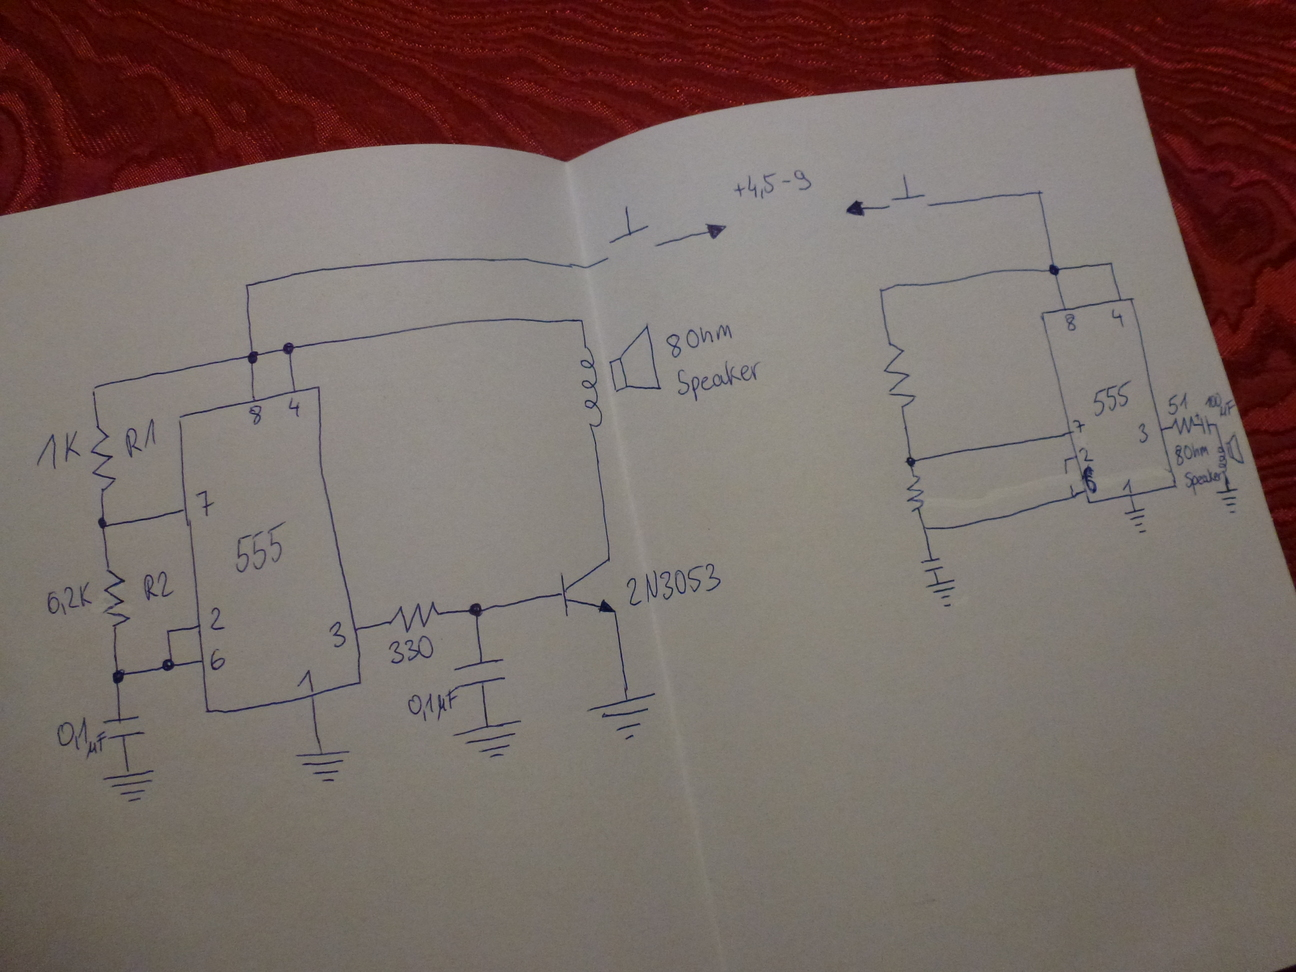capacitor.polarized: (1194, 412, 1214, 437)
capacitor.unpolarized: (451, 655, 510, 692), (102, 712, 146, 743), (918, 554, 946, 574)
gnd: (584, 689, 658, 743), (452, 716, 525, 761), (100, 765, 159, 806), (293, 745, 352, 784), (925, 578, 961, 610), (1214, 486, 1240, 517), (1121, 507, 1149, 534)
integrated_circuit: (175, 381, 364, 716), (1037, 296, 1179, 506)
junction: (464, 599, 487, 620), (109, 665, 129, 687), (93, 514, 114, 532), (280, 339, 298, 358), (158, 657, 175, 674), (245, 348, 261, 364), (87, 381, 103, 396), (875, 283, 891, 298), (1046, 262, 1061, 278), (903, 454, 919, 468), (574, 312, 588, 327), (241, 278, 253, 291), (1033, 187, 1045, 199), (163, 625, 175, 637), (919, 523, 932, 534), (1105, 258, 1116, 268), (1068, 491, 1077, 500), (1060, 456, 1070, 464)
resistor: (879, 335, 918, 415), (99, 566, 131, 632), (87, 426, 117, 490), (388, 599, 438, 631), (901, 469, 929, 517), (1170, 416, 1197, 436)
speaker: (576, 323, 665, 434), (1215, 433, 1245, 473)
switch: (597, 202, 665, 266), (881, 171, 936, 213)
text: (625, 563, 721, 606), (675, 358, 762, 404), (230, 521, 288, 574), (665, 320, 735, 360), (733, 166, 813, 201), (31, 430, 84, 470), (406, 686, 460, 723), (54, 717, 103, 757), (45, 581, 94, 615), (385, 633, 437, 664), (121, 420, 161, 458), (1088, 381, 1132, 416), (1183, 466, 1222, 497), (141, 570, 175, 601), (1173, 441, 1211, 467), (1203, 391, 1238, 419), (192, 485, 217, 519), (326, 620, 348, 649), (207, 604, 228, 634), (1165, 391, 1190, 416), (1082, 464, 1100, 494), (207, 647, 226, 672), (247, 401, 264, 426), (285, 395, 303, 418), (1135, 421, 1151, 445), (297, 667, 312, 691), (1077, 445, 1098, 463), (1110, 305, 1126, 327), (1062, 312, 1078, 331), (1071, 417, 1086, 435), (1121, 477, 1134, 493)
transistor: (551, 552, 620, 624)
vss: (702, 220, 729, 241), (843, 198, 868, 218)
